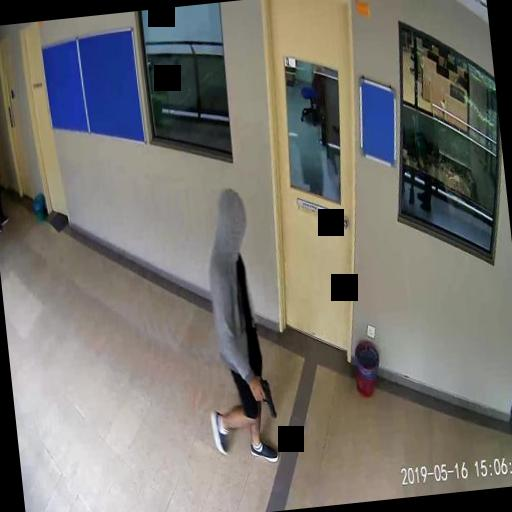Handgun: (248, 377, 276, 420)
